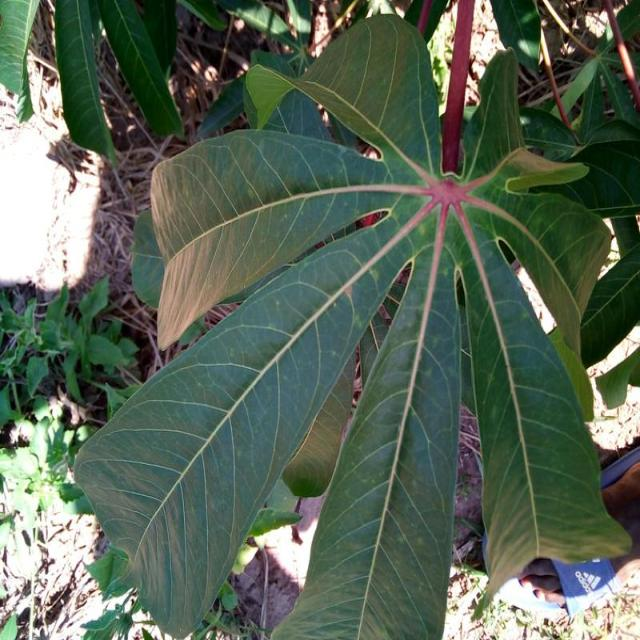cassava leaf: (72, 11, 631, 638)
